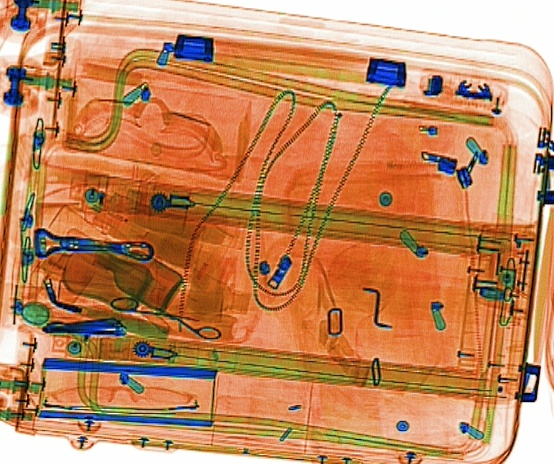scissors: (107, 295, 222, 340)
